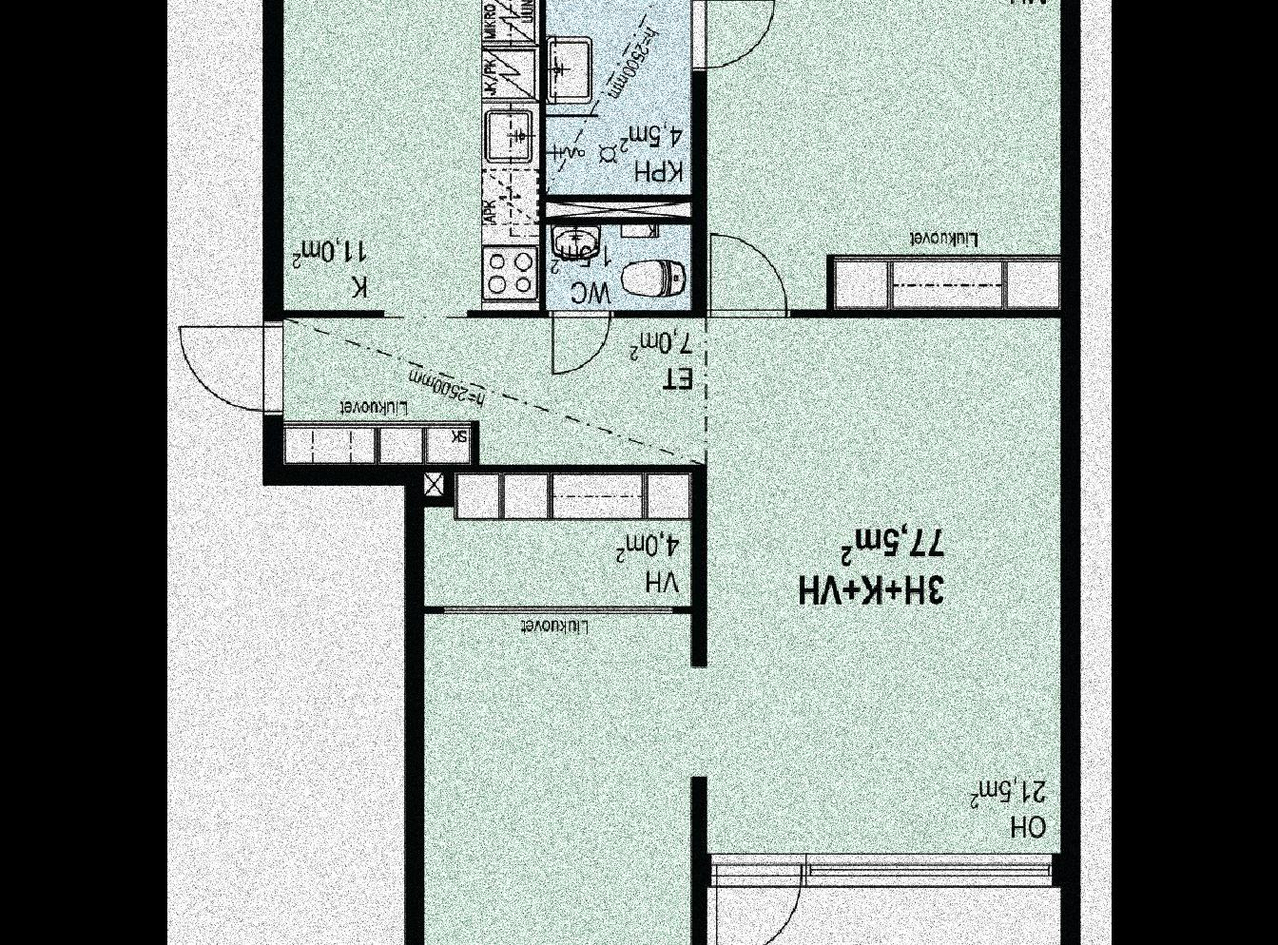door: (700, 218, 789, 333), (176, 324, 282, 416), (711, 852, 804, 945), (687, 0, 777, 74), (544, 307, 610, 377)
window: (711, 854, 1054, 889)
zone: (707, 318, 1062, 848), (706, 0, 1059, 318), (418, 610, 697, 945), (281, 0, 544, 312), (281, 323, 704, 466), (416, 472, 694, 603), (550, 0, 692, 195), (709, 891, 1060, 945), (542, 225, 697, 312)
